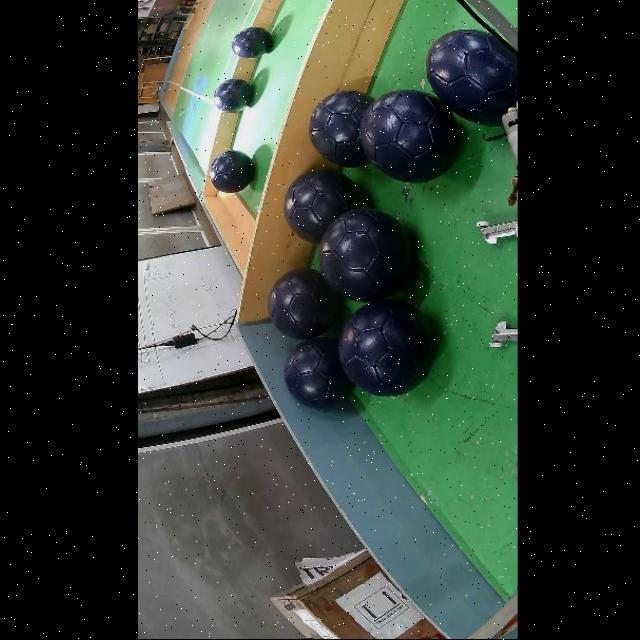B: (337, 300, 434, 397), (358, 91, 458, 183), (317, 209, 411, 302), (425, 30, 516, 126), (283, 170, 362, 244), (265, 269, 338, 340), (308, 91, 372, 167), (283, 339, 351, 410), (207, 150, 253, 194), (211, 79, 251, 113), (230, 27, 271, 59)
